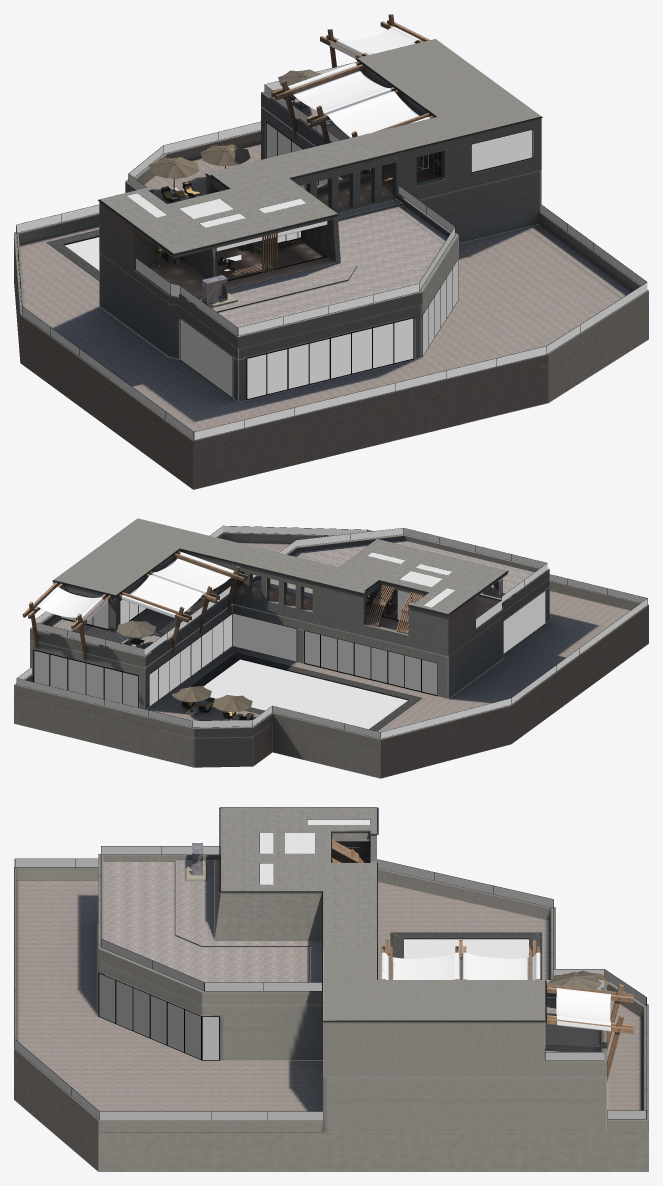
3 renders of one model, top to bottom at view 1: azimuth 30°, elevation 25°; view 2: azimuth 150°, elevation 25°; view 3: azimuth 270°, elevation 25°, orthographic. The views are drawn at different scales.
Visible parts, largest first — view 1: EXT_Tiles_Mesh2, Closet_door_001, WallsDownMesh3, Walls, WallsB_N2, Walls3133, HexTiles2, ProtConcMesh2, Cloth1Exterior2, ExtConc24, C_Table_R_Mesh, ExtWood (+10 smaller); view 2: Closet_door_001, WallsDownMesh3, Walls, EXT_Tiles_Mesh2, WallsB_N2, ProtConcMesh2, Walls3133, Cloth1Exterior2, C_Table_R_Mesh, HexTiles2, ExtConc24, Pool_Mesh2 (+12 smaller); view 3: EXT_Tiles_Mesh2, WallsDownMesh3, WallsB_N2, Walls3133, Walls, Closet_door_001, HexTiles2, ProtConcMesh2, ExtConc24, Cloth1Exterior2, BlockGlass2, WoodSLargeCloth3 (+8 smaller).
Part boxes in pixels (bbox=[...]): EXT_Tiles_Mesh2: bbox=[19, 143, 631, 431]; Closet_door_001: bbox=[16, 63, 647, 439]; WallsDownMesh3: bbox=[14, 246, 648, 489]; Walls: bbox=[99, 133, 396, 306]; WallsB_N2: bbox=[261, 39, 541, 199]; Walls3133: bbox=[99, 106, 541, 402]; HexTiles2: bbox=[198, 199, 447, 327]; ProtConcMesh2: bbox=[14, 130, 648, 452]; Cloth1Exterior2: bbox=[288, 62, 430, 137]; ExtConc24: bbox=[179, 193, 458, 348]; C_Table_R_Mesh: bbox=[173, 59, 541, 400]; ExtWood: bbox=[134, 182, 392, 298]; Closet_door_001: bbox=[17, 526, 647, 738]; WallsDownMesh3: bbox=[14, 614, 648, 778]; Walls: bbox=[232, 539, 507, 656]; EXT_Tiles_Mesh2: bbox=[147, 542, 630, 737]; WallsB_N2: bbox=[30, 518, 252, 667]; ProtConcMesh2: bbox=[14, 532, 648, 748]; Walls3133: bbox=[30, 578, 549, 709]; Cloth1Exterior2: bbox=[121, 552, 234, 617]; C_Table_R_Mesh: bbox=[33, 549, 545, 712]; HexTiles2: bbox=[254, 540, 534, 602]; ExtConc24: bbox=[253, 534, 549, 611]; Pool_Mesh2: bbox=[191, 652, 422, 731]; EXT_Tiles_Mesh2: bbox=[16, 880, 643, 1111]; WallsDownMesh3: bbox=[14, 1030, 648, 1171]; WallsB_N2: bbox=[323, 946, 606, 1076]; Walls3133: bbox=[98, 961, 606, 1132]; Walls: bbox=[214, 807, 376, 945]; Closet_door_001: bbox=[15, 819, 646, 1119]; HexTiles2: bbox=[103, 860, 321, 982]; ProtConcMesh2: bbox=[14, 867, 648, 1132]; ExtConc24: bbox=[98, 854, 321, 1004]; Cloth1Exterior2: bbox=[381, 952, 540, 979]; BlockGlass2: bbox=[14, 819, 646, 1119]; WoodSLargeCloth3: bbox=[556, 985, 610, 1031].
Bounding box in the file's own units: 44.04 × 12.27 × 46.53.
Materials: 94 (92 with a texture image).
